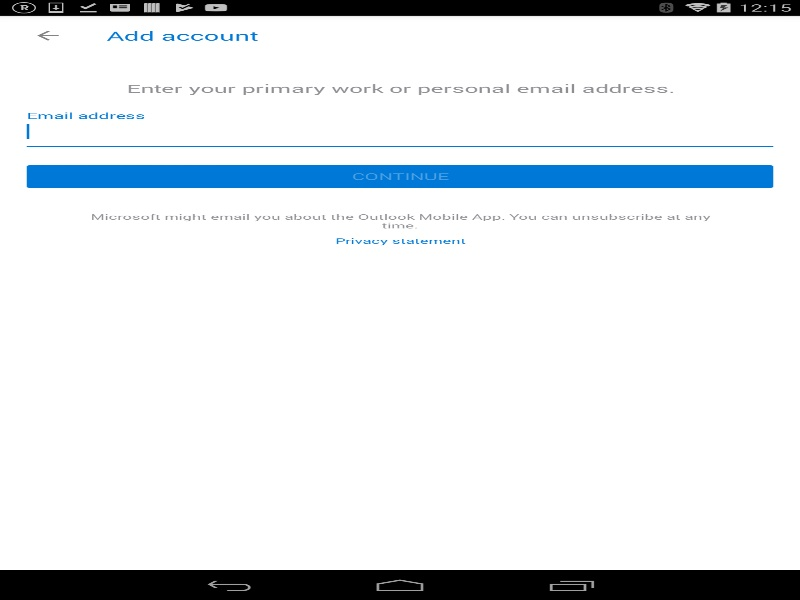Button: (21, 161, 778, 191), (324, 230, 476, 250), (10, 15, 85, 55)
Input: (21, 118, 778, 151)
